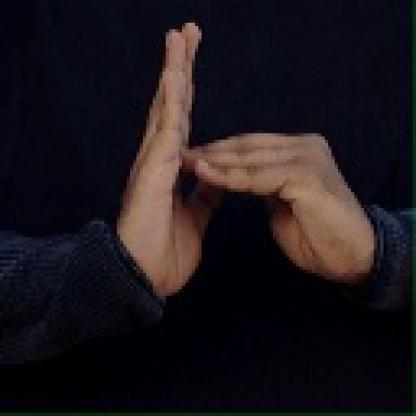Z: (107, 17, 365, 290)
